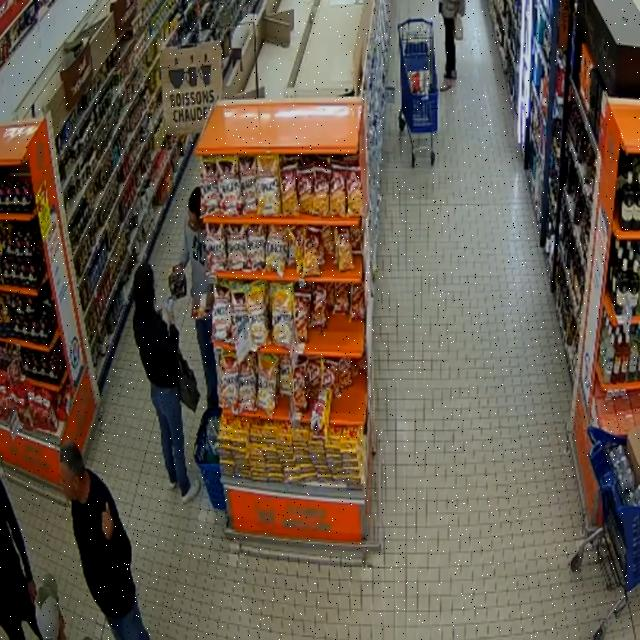article: (168, 264, 187, 300), (191, 289, 213, 319)
bags: (178, 351, 200, 411), (454, 15, 463, 40)
hands: (102, 502, 114, 540), (28, 580, 36, 603), (166, 310, 175, 326)
person: (60, 441, 149, 639), (133, 264, 200, 503), (180, 188, 219, 409), (0, 481, 40, 639), (440, 0, 465, 91)
